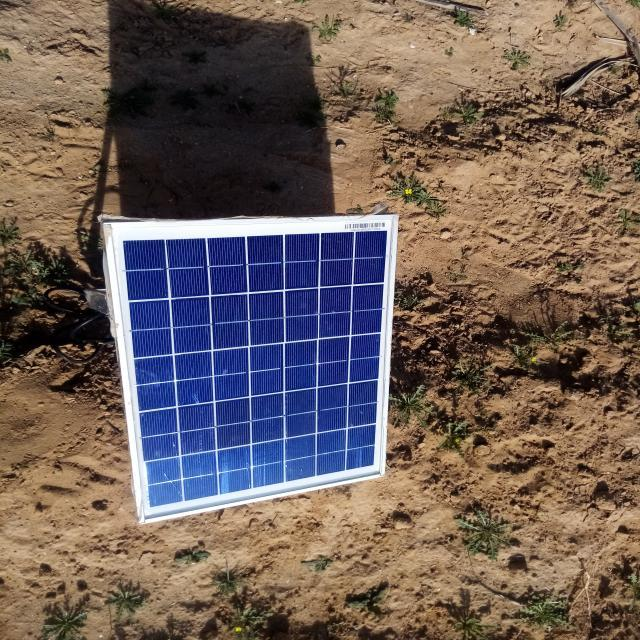no faulty: (106, 215, 399, 522)
